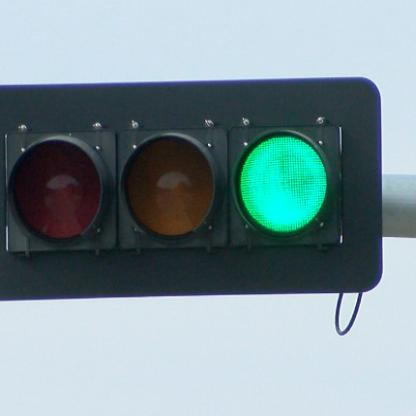green: (2, 90, 372, 283)
